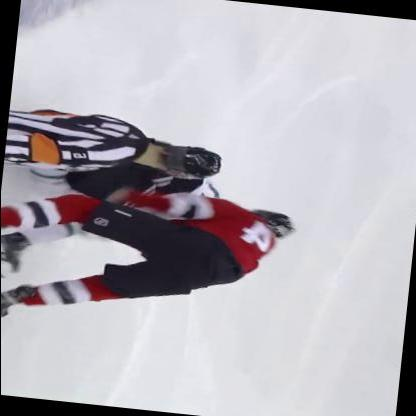voilence: (1, 143, 304, 325)
